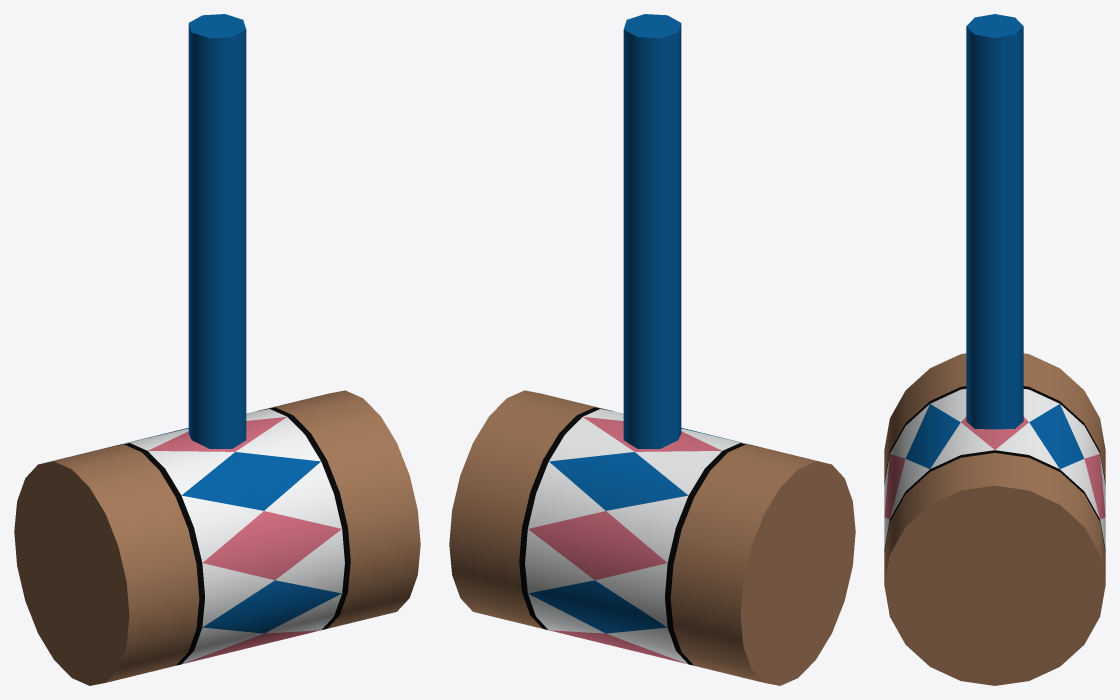
The model's file is Harley_hammer.fbx.
The picture shows the model from 3 angles, left to right: view 1: azimuth 30°, elevation 25°; view 2: azimuth 150°, elevation 25°; view 3: azimuth 270°, elevation 25°; orthographic projection. The views are drawn at different scales.
Parts seen in each view (by area): view 1: Harley_hammer, Harley_handle; view 2: Harley_hammer, Harley_handle; view 3: Harley_hammer, Harley_handle.
Boxes of the visible parts, bbox=[...] form: Harley_hammer: bbox=[14, 390, 420, 685]; Harley_handle: bbox=[188, 14, 246, 448]; Harley_hammer: bbox=[449, 390, 855, 685]; Harley_handle: bbox=[623, 14, 681, 448]; Harley_hammer: bbox=[884, 353, 1105, 685]; Harley_handle: bbox=[966, 14, 1023, 429].
Size of the model in its own units: 51.64 by 104 by 35.36.
